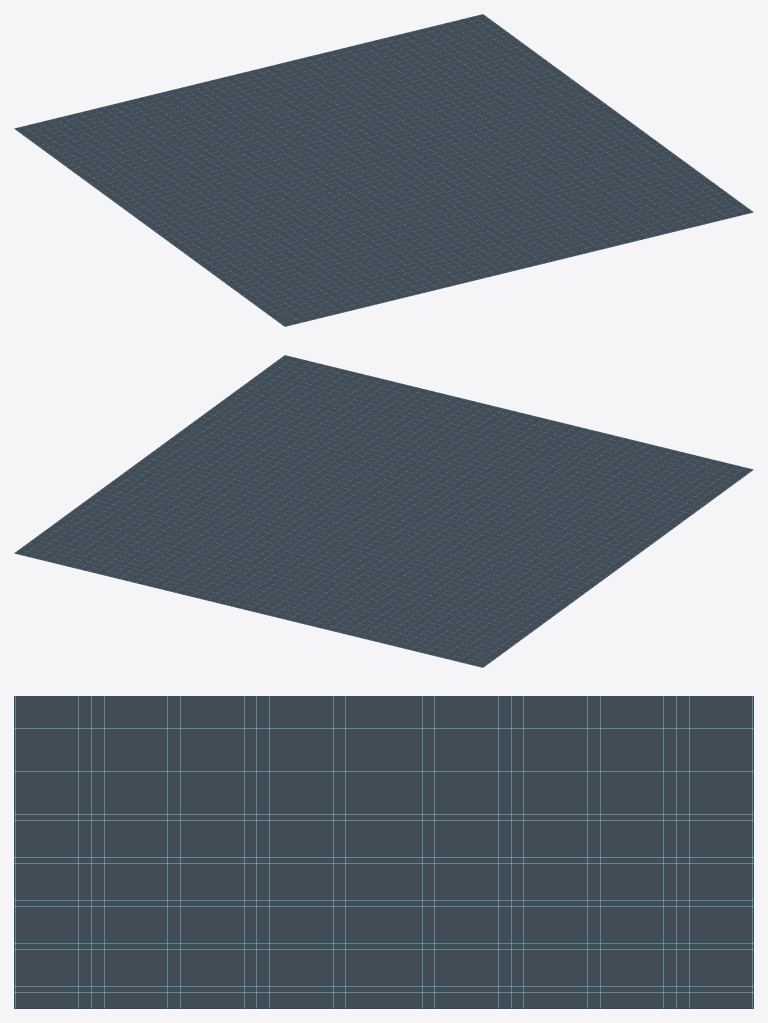
Rendered from deck.glb.
3 renders of one model, top to bottom at view 1: azimuth 30°, elevation 25°; view 2: azimuth 150°, elevation 25°; view 3: azimuth 270°, elevation 25°, orthographic. The views are drawn at different scales.
Visible parts, largest first — view 1: Holodeck Deck; view 2: Holodeck Deck; view 3: Holodeck Deck.
Boxes of the visible parts, x1,y1,x2,y2 form: Holodeck Deck: (14,14,753,326); Holodeck Deck: (14,355,753,667); Holodeck Deck: (14,696,753,1008).
Size of the model in its own units: 1164 by 0.22 by 1164.
